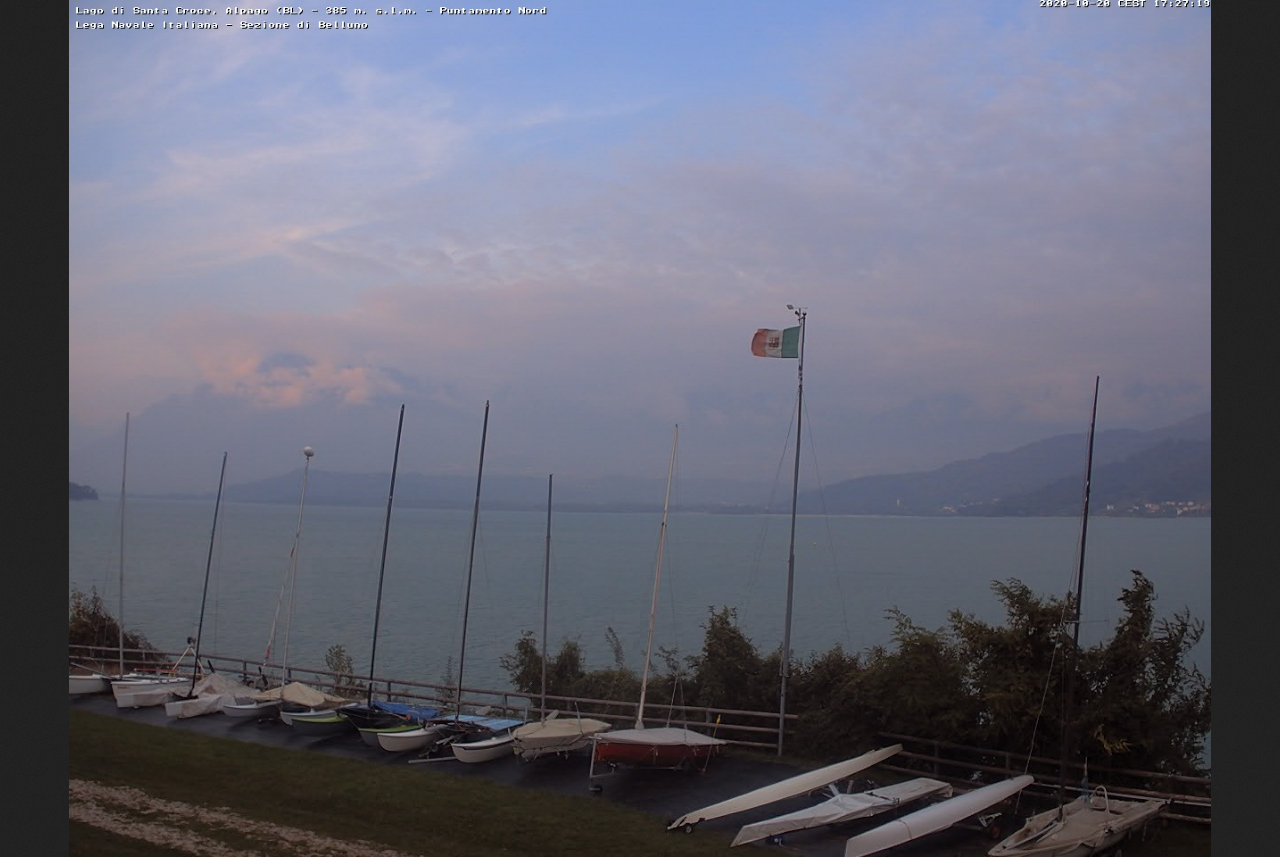yes: (747, 318, 807, 372)
